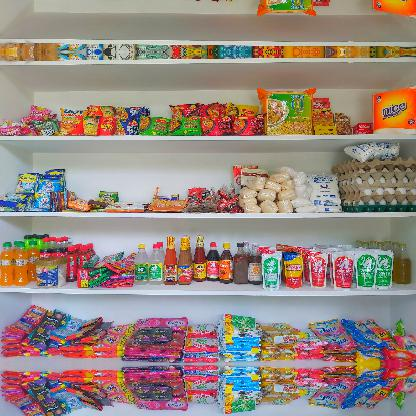Lady-s-Choice: (35, 256, 67, 288)
